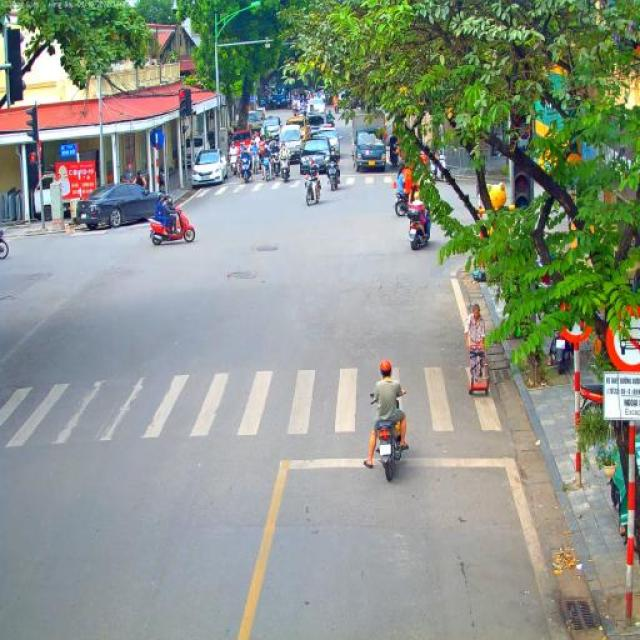car: (75, 182, 167, 229), (191, 148, 228, 186), (299, 136, 332, 175), (315, 125, 343, 156), (280, 124, 304, 160), (259, 115, 283, 146), (284, 118, 310, 144), (231, 130, 253, 154), (306, 114, 328, 136)
motorcycle: (369, 391, 405, 481), (580, 383, 629, 436), (149, 204, 196, 246), (549, 327, 572, 374), (408, 210, 433, 251), (394, 190, 416, 218), (435, 155, 454, 183), (305, 177, 323, 206), (238, 154, 252, 184), (328, 160, 340, 191), (260, 154, 272, 181), (270, 153, 282, 179), (279, 158, 291, 182), (389, 144, 401, 168), (0, 231, 9, 259), (250, 151, 260, 175), (228, 155, 238, 177), (299, 108, 307, 121), (292, 105, 298, 116), (327, 110, 332, 122)
truck: (349, 111, 388, 174), (268, 87, 288, 111), (248, 110, 262, 136), (307, 98, 327, 116)
